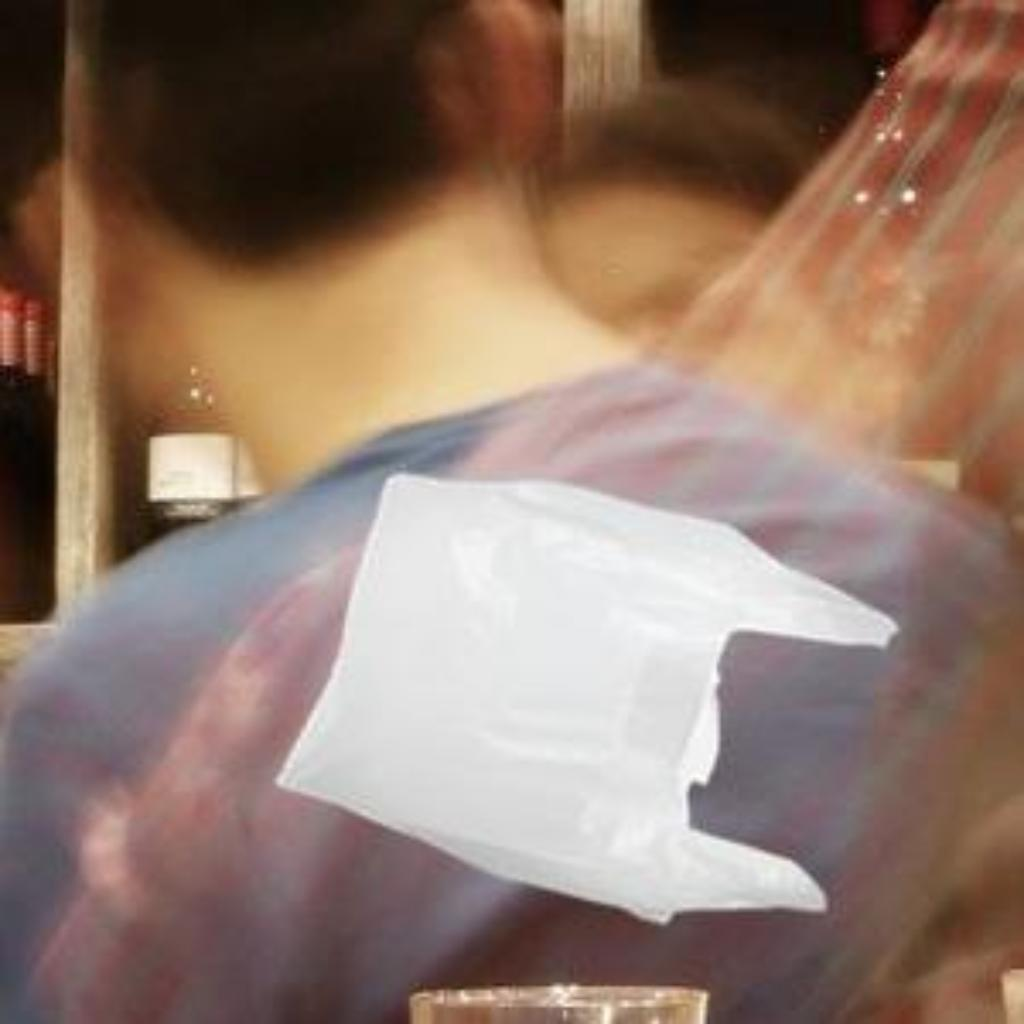garbage: (278, 433, 920, 959)
